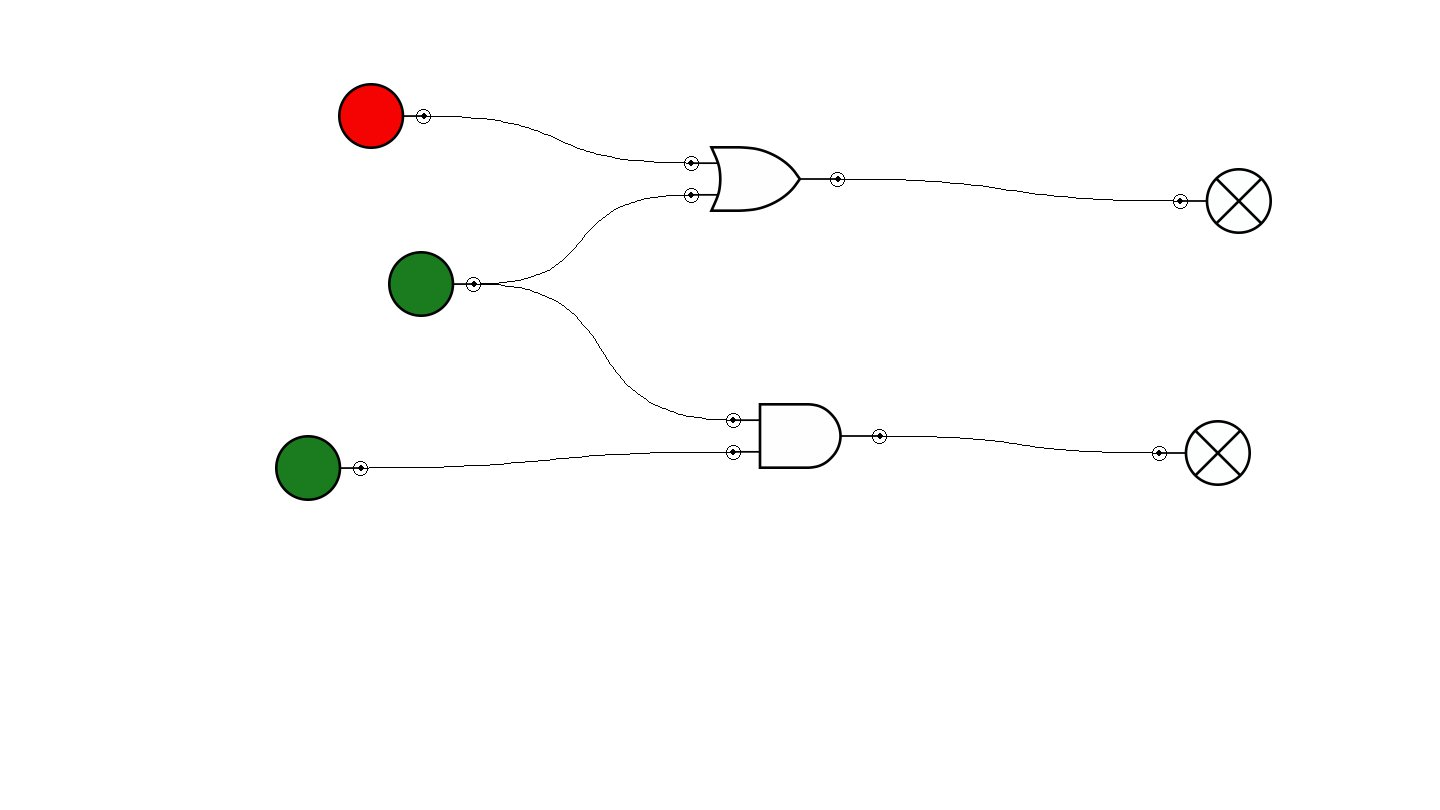and: (726, 403, 887, 469)
bulb: (1152, 420, 1251, 486), (1173, 168, 1272, 234)
or: (684, 146, 845, 212)
switch_False: (338, 83, 431, 149)
switch_True: (275, 435, 368, 501), (388, 251, 481, 317)
